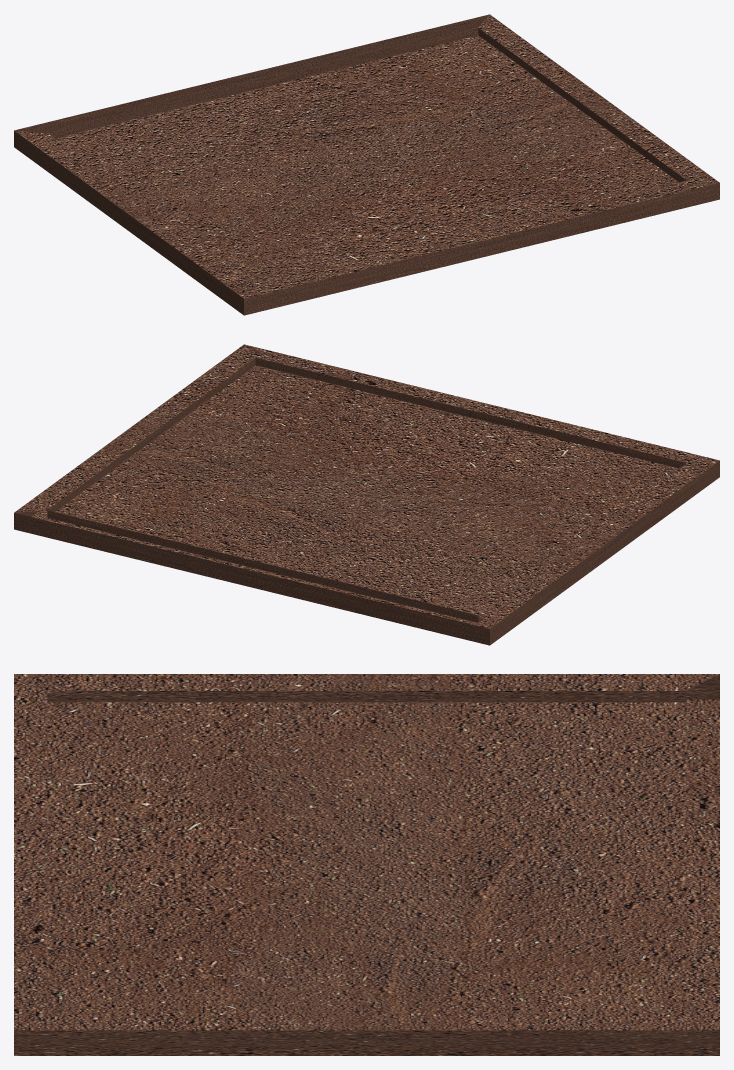
File: testZone.FBX
3 views of the same model, one above another, from view 1: azimuth 30°, elevation 25°; view 2: azimuth 150°, elevation 25°; view 3: azimuth 270°, elevation 25° (orthographic). The views are drawn at different scales.
Visible parts, largest first — view 1: Box002; view 2: Box002; view 3: Box002.
Boxes of the visible parts, x1,y1,x2,y2 form: Box002: [14, 14, 719, 315]; Box002: [14, 344, 719, 645]; Box002: [14, 674, 719, 1055].
Bounding box in the file's own units: 309 × 10.39 × 259.
Materials: 1 (1 with a texture image).
